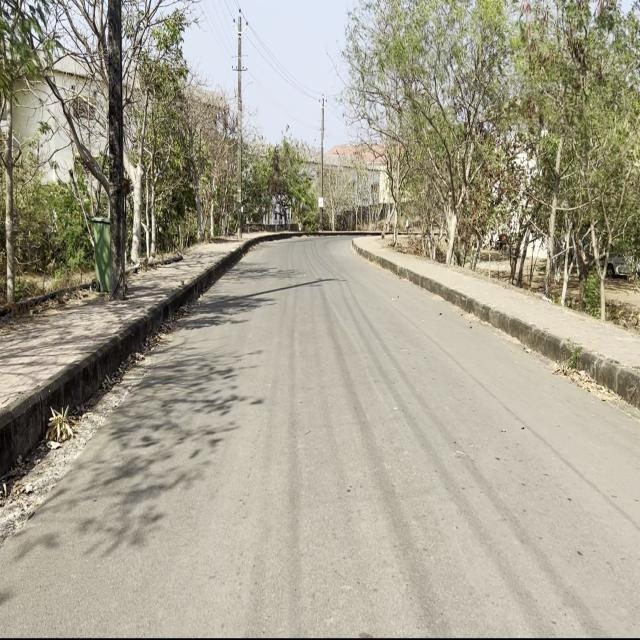Road: (4, 237, 639, 630)
